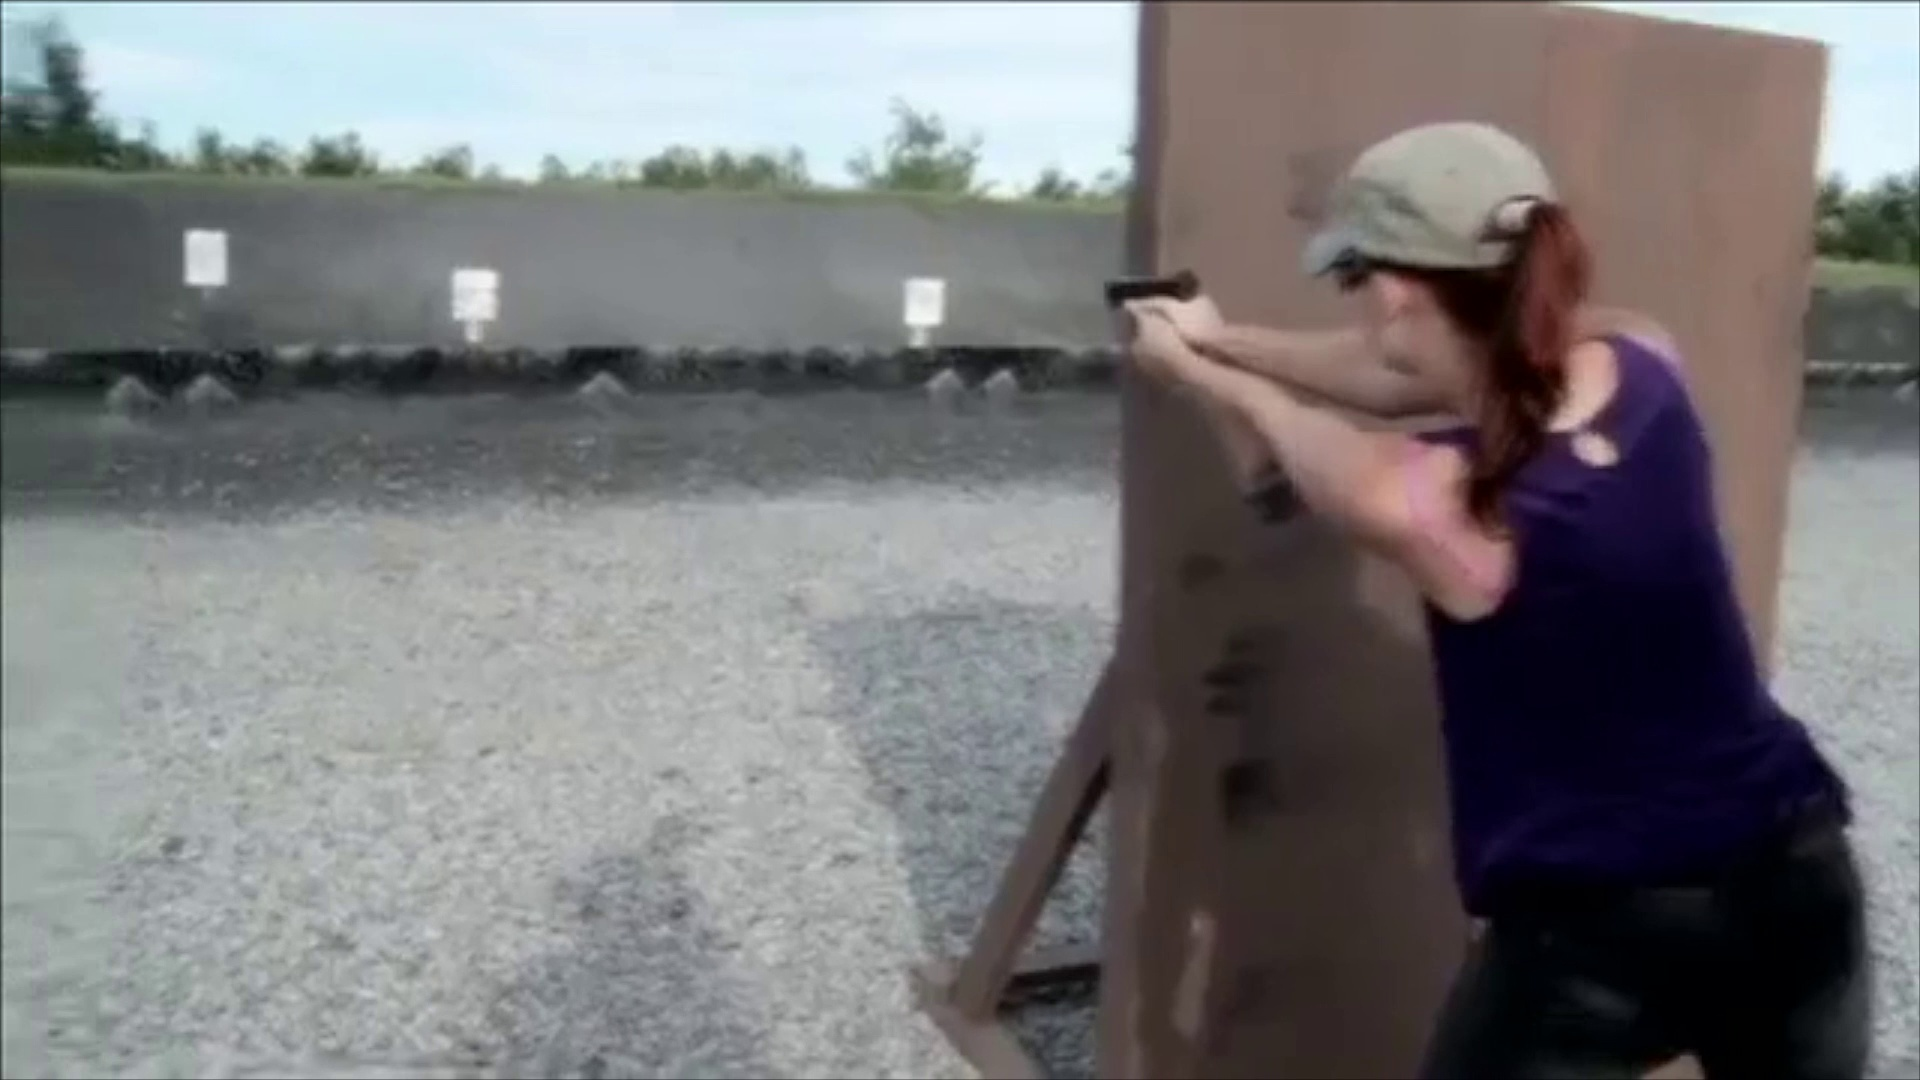gun: (1100, 268, 1209, 316)
